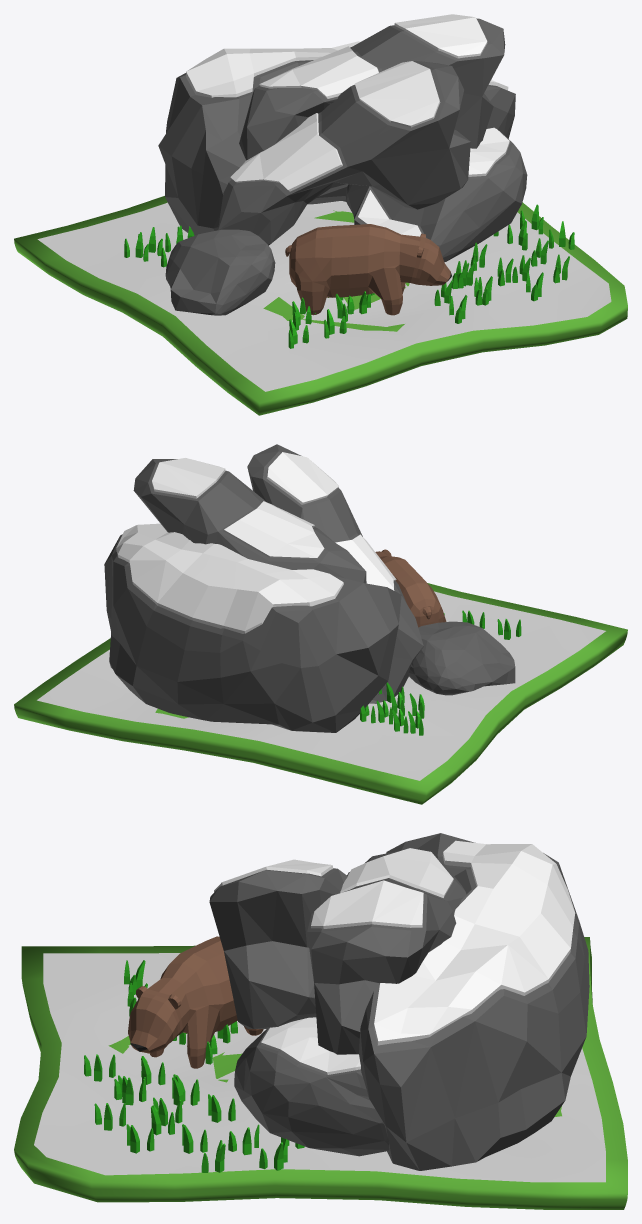
The model's file is Bosque02.glb.
3 renders of one model, top to bottom at view 1: azimuth 30°, elevation 25°; view 2: azimuth 150°, elevation 25°; view 3: azimuth 270°, elevation 25°, orthographic. The views are drawn at different scales.
Visible parts, largest first — view 1: Cube.003, Cube.050, Cube.002, Cube.044, Cube.043, Plane.002, Cube.042, Cube.041, Cube.046, Cube.051, Cube.048, Cube.053 (+2 smaller); view 2: Cube.044, Cube.003, Cube.002, Cube.043, Cube.050, Cube.041, Plane.002, Cube.054, Cube.049; view 3: Cube.044, Cube.003, Cube.002, Cube.043, Cube.050, Cube.042, Plane.002, Cube.051, Cube.048, Cube.047, Cube.053, Cube.052 (+1 smaller).
Part boxes in pixels (x1,y1,x2,y2): Cube.003: (37, 201, 611, 391); Cube.050: (218, 60, 470, 245); Cube.002: (14, 196, 627, 415); Cube.044: (158, 41, 515, 235); Cube.043: (239, 14, 505, 160); Plane.002: (285, 224, 451, 315); Cube.042: (345, 127, 527, 262); Cube.041: (165, 229, 275, 315); Cube.046: (288, 294, 353, 348); Cube.051: (512, 238, 569, 301); Cube.048: (457, 242, 513, 305); Cube.053: (434, 261, 491, 323); Cube.044: (104, 523, 401, 732); Cube.003: (37, 591, 605, 780); Cube.002: (14, 583, 627, 804); Cube.043: (133, 458, 366, 583); Cube.050: (247, 444, 423, 703); Cube.041: (408, 621, 515, 695); Plane.002: (375, 549, 446, 627); Cube.054: (376, 682, 424, 735); Cube.049: (360, 689, 408, 733); Cube.044: (359, 833, 589, 1170); Cube.003: (34, 953, 605, 1182); Cube.002: (14, 937, 627, 1209); Cube.043: (307, 848, 466, 1054); Cube.050: (209, 859, 347, 1028); Cube.042: (234, 1017, 389, 1156); Plane.002: (128, 936, 263, 1068); Cube.051: (94, 1103, 207, 1153); Cube.048: (114, 1077, 235, 1126); Cube.047: (201, 1124, 304, 1172); Cube.053: (84, 1054, 199, 1103); Cube.052: (173, 1021, 237, 1064).
Bounding box in the file's own units: 5.77 × 2.82 × 5.84.
10 materials, 2 textured.
